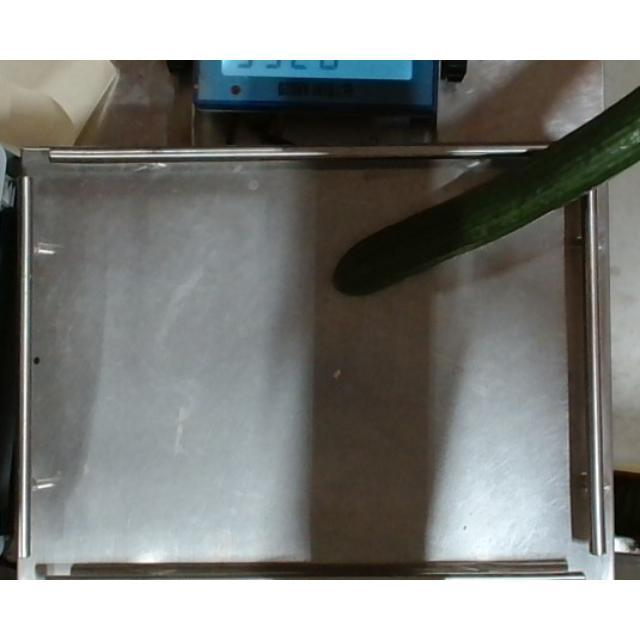cucumber: (334, 83, 640, 295)
